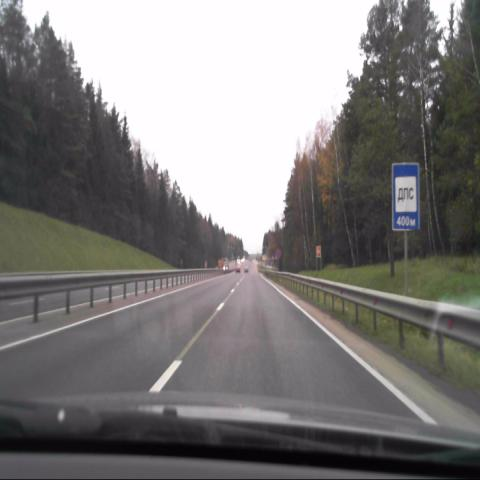7_12: (392, 163, 419, 230)
